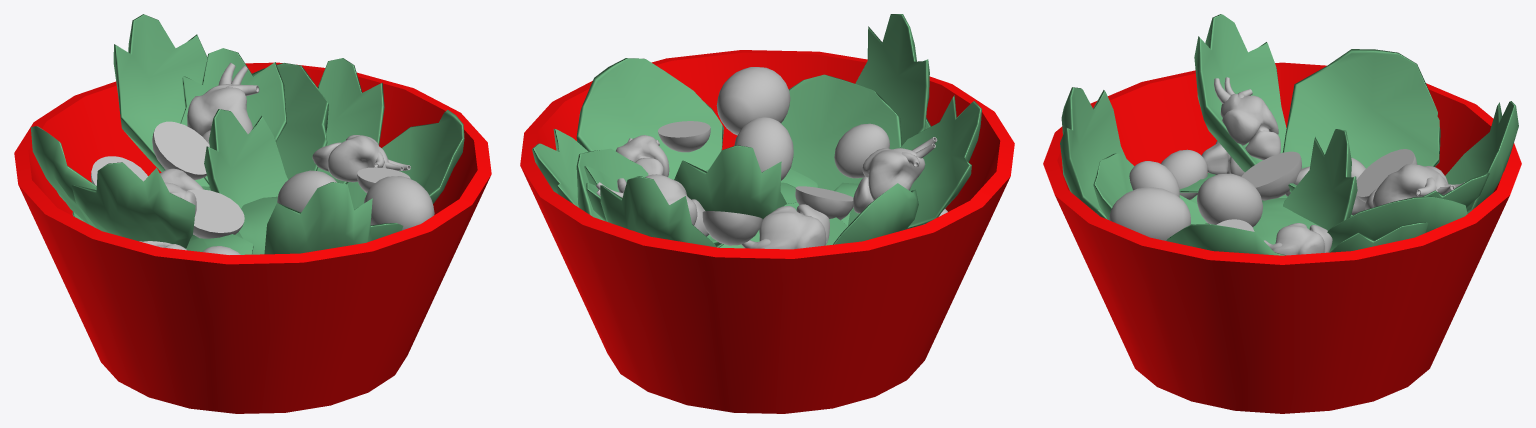
Rendered from Food_EggSalad.fbx.
The picture shows the model from 3 angles, left to right: view 1: azimuth 30°, elevation 25°; view 2: azimuth 150°, elevation 25°; view 3: azimuth 270°, elevation 25°; orthographic projection. The views are drawn at different scales.
Parts seen in each view (by area): view 1: Food_EggSalad; view 2: Food_EggSalad; view 3: Food_EggSalad.
Boxes of the visible parts, <box> form: Food_EggSalad: <box>14,14,491,413</box>; Food_EggSalad: <box>520,14,1014,413</box>; Food_EggSalad: <box>1043,14,1521,413</box>.
Bounding box in the file's own units: 0.3807 × 0.22 × 0.3807.
